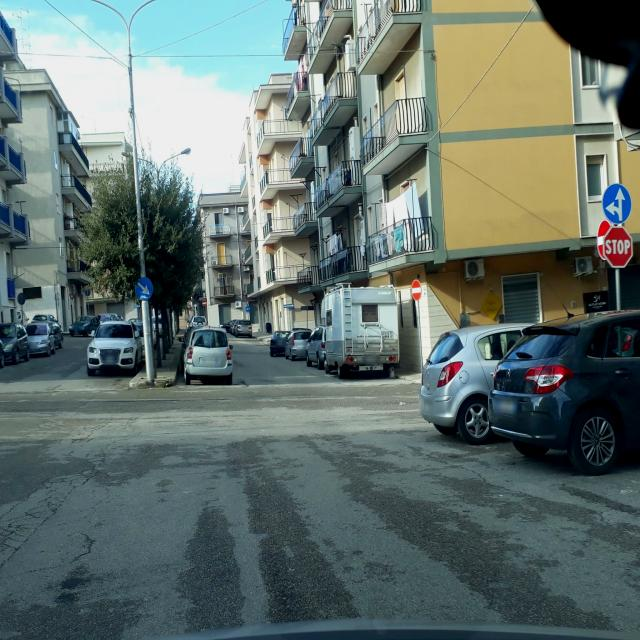car: (488, 308, 640, 476), (418, 323, 530, 445), (86, 322, 143, 376), (182, 326, 234, 384), (0, 322, 31, 366), (24, 322, 56, 356), (306, 324, 329, 368), (284, 329, 313, 360), (69, 314, 99, 338), (42, 320, 64, 349), (269, 330, 291, 357), (234, 319, 253, 338)
